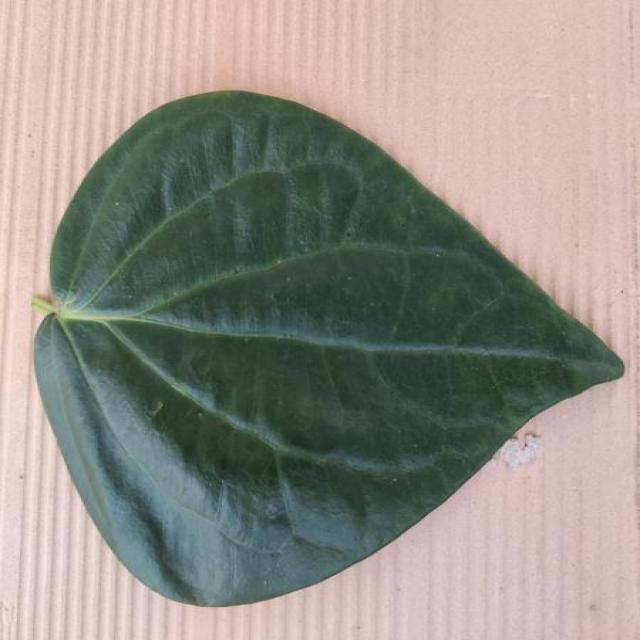betel: (33, 91, 623, 606)
